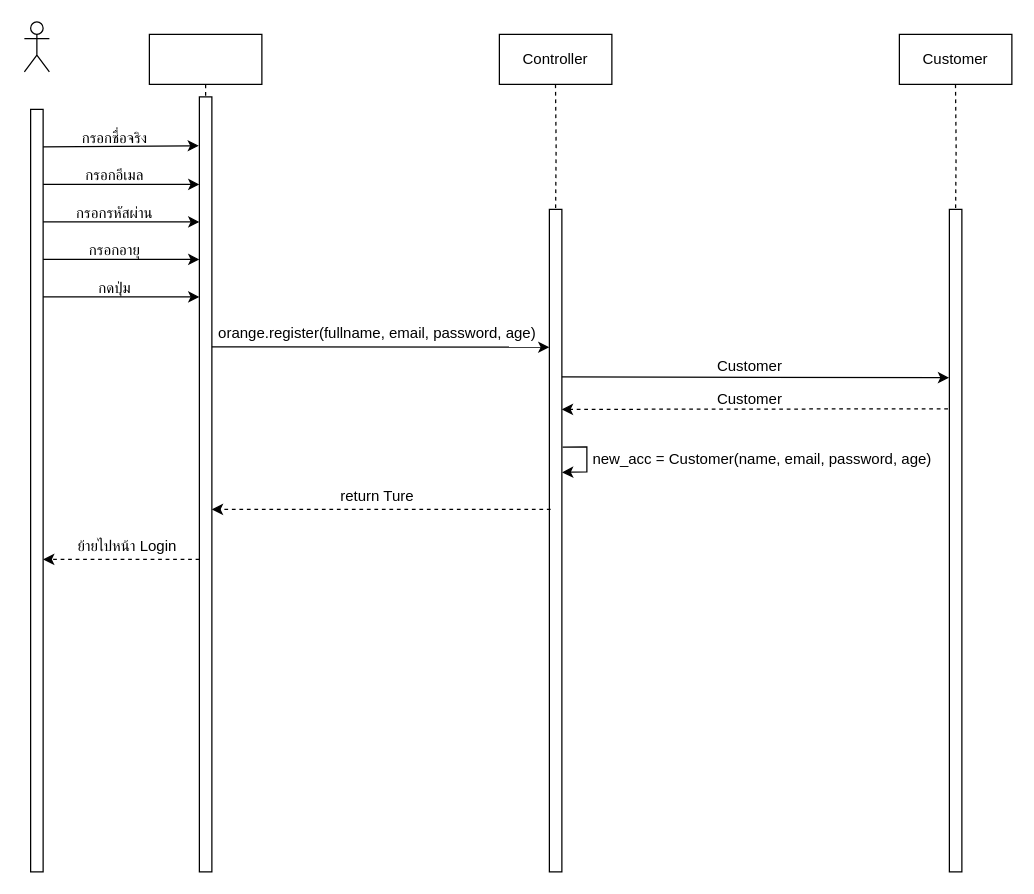
The diagram is 1034 pixels wide and 894 high, and some of its shapes have lost their labels. The box of each missing label's shape, as (x1, y1, x2, y2) in pixels:
UI: (148, 33, 262, 84)
User: (23, 21, 49, 72)
